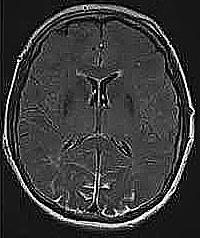Normal_Brain: (1, 1, 200, 238)
